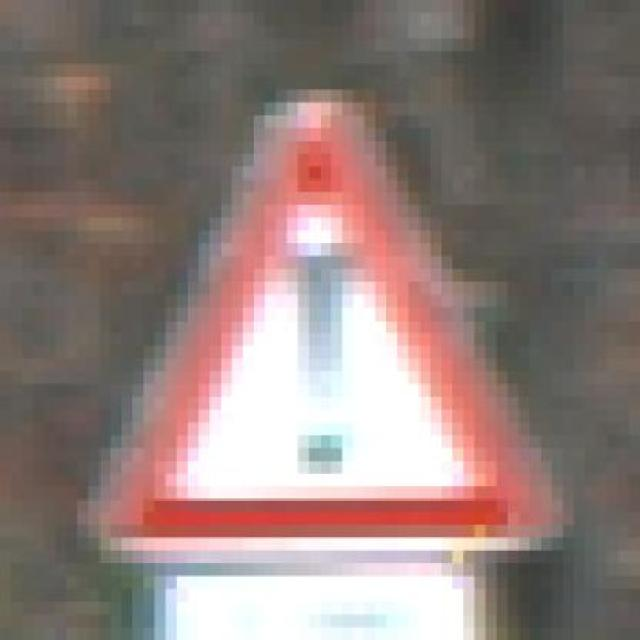Attention Please-: (68, 80, 587, 566)
